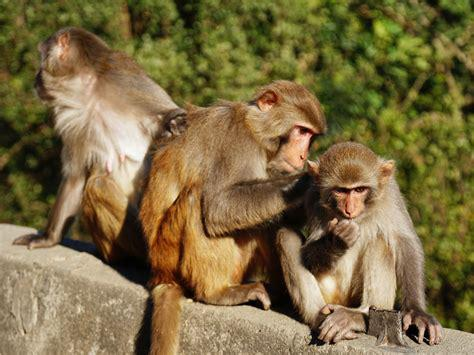monkey: (140, 80, 325, 355), (12, 32, 179, 250), (277, 141, 442, 343)
